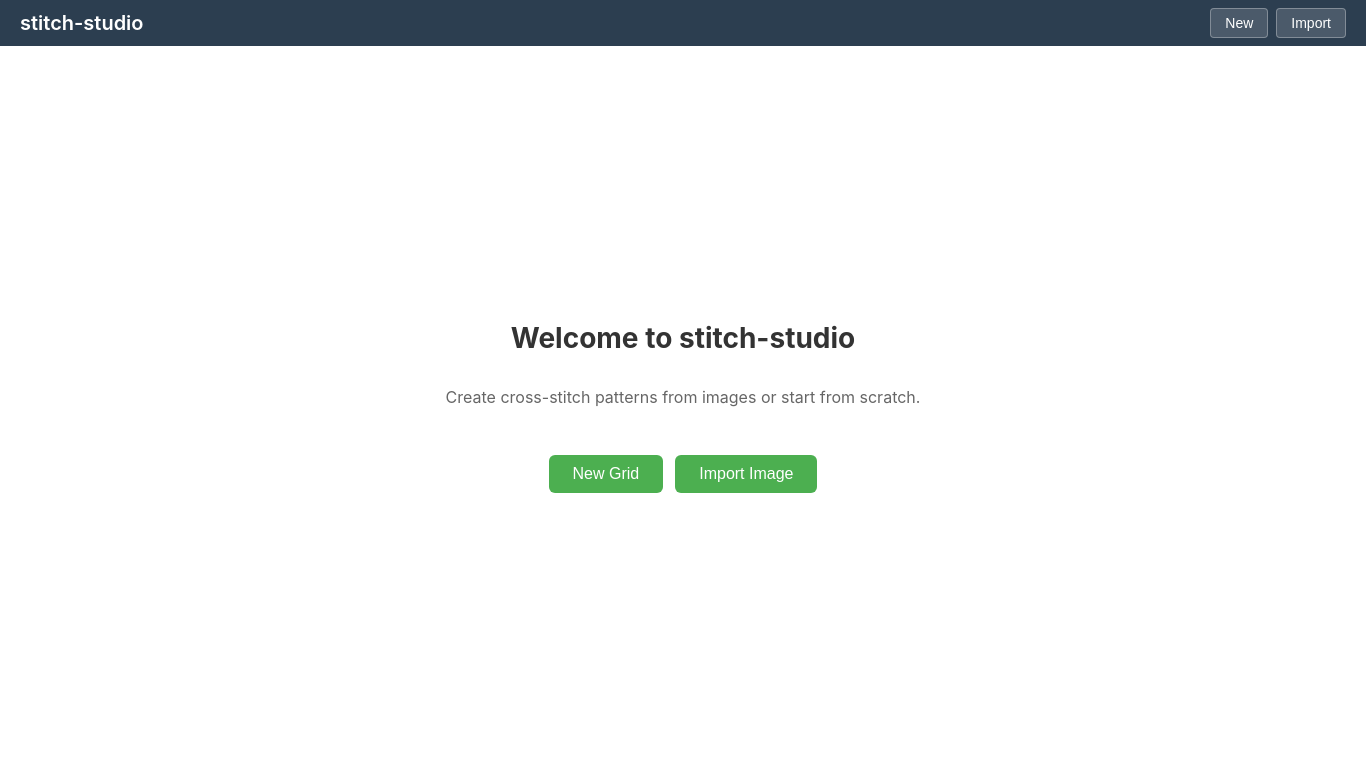
Test: App › opens Import dialog on button click
Click the button "Import Image" at (746, 474), box [675, 455, 818, 493]
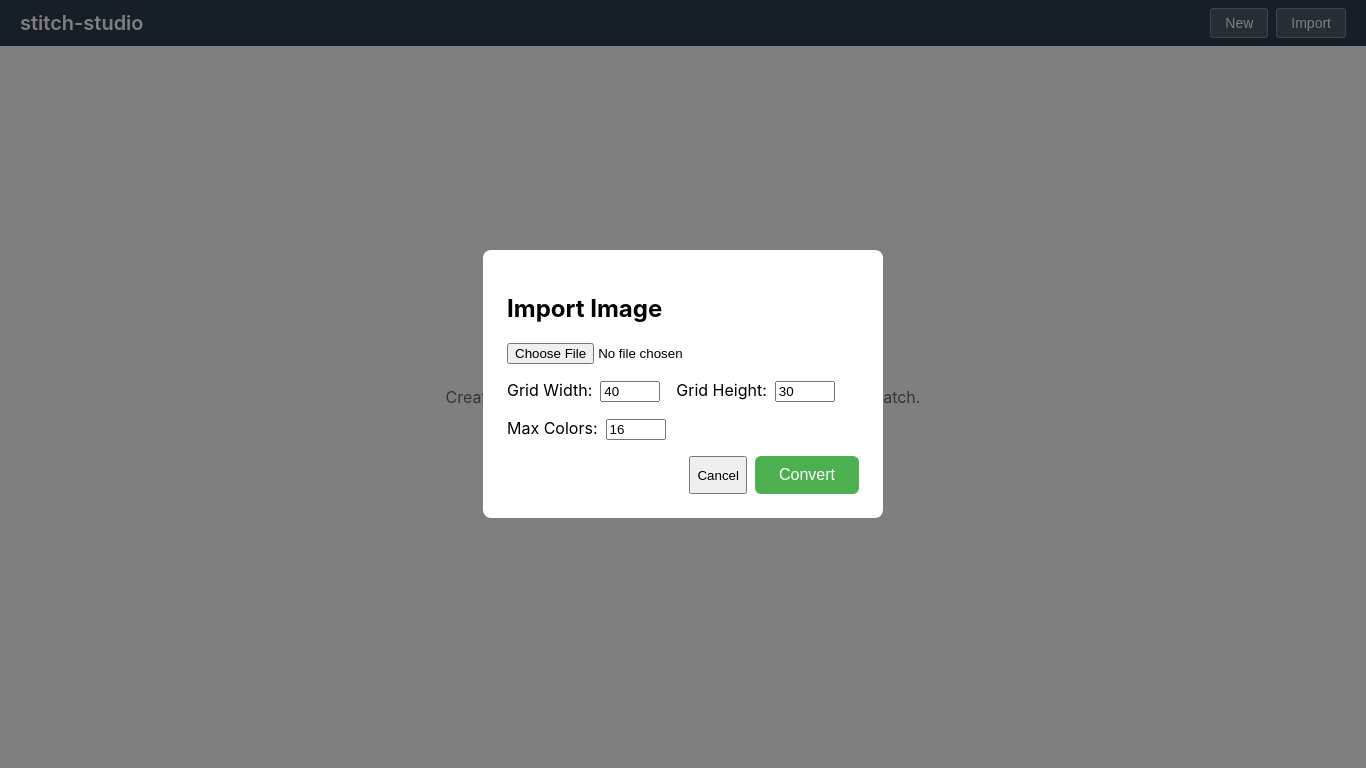
Check: the dialog is shown
